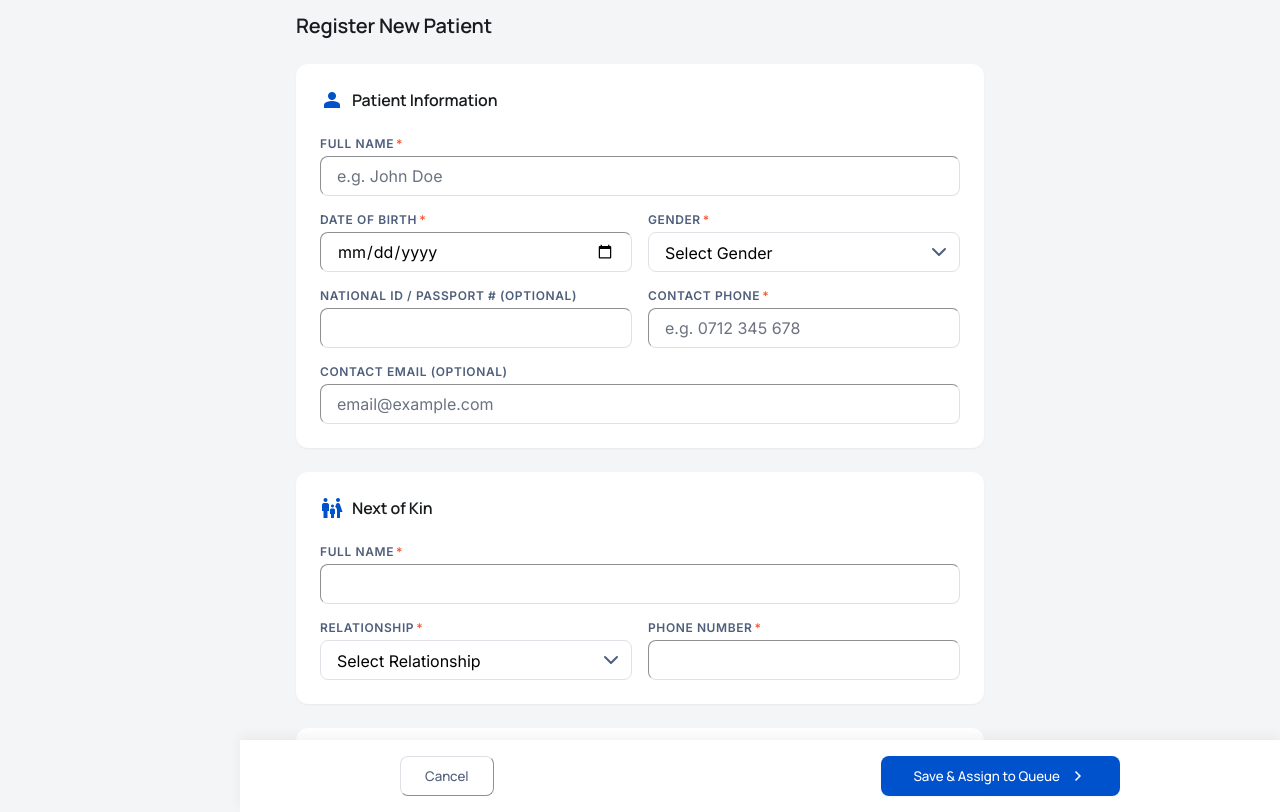
Scenario: PatientRegistrationPage › checks for duplicate National ID, populates details, and disables inputs if patient is active in queue
Type "98765" into the field below "National ID / Passport # (Optional)" at (476, 328), box [320,308,632,348]
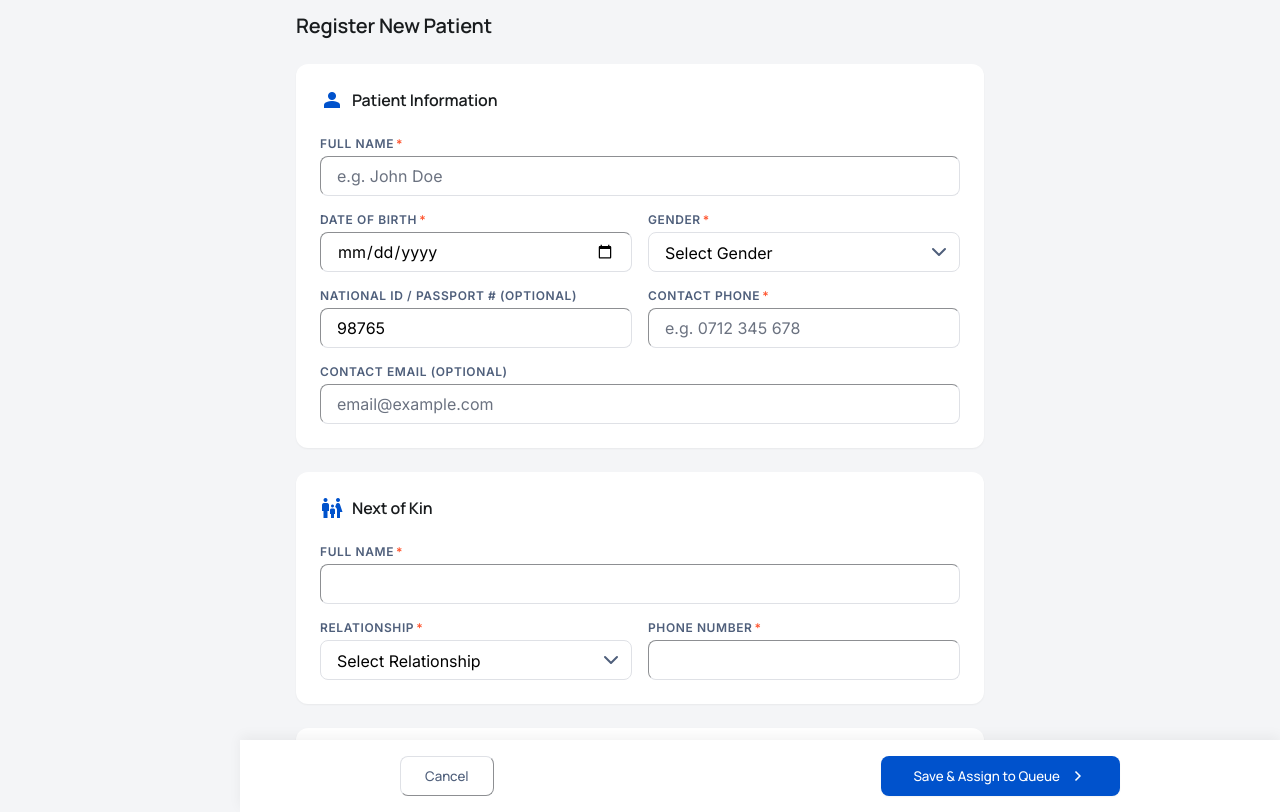
Blur to trigger handleNationalIdCheck
Leave the field below "National ID / Passport # (Optional)", box [320,308,632,348]
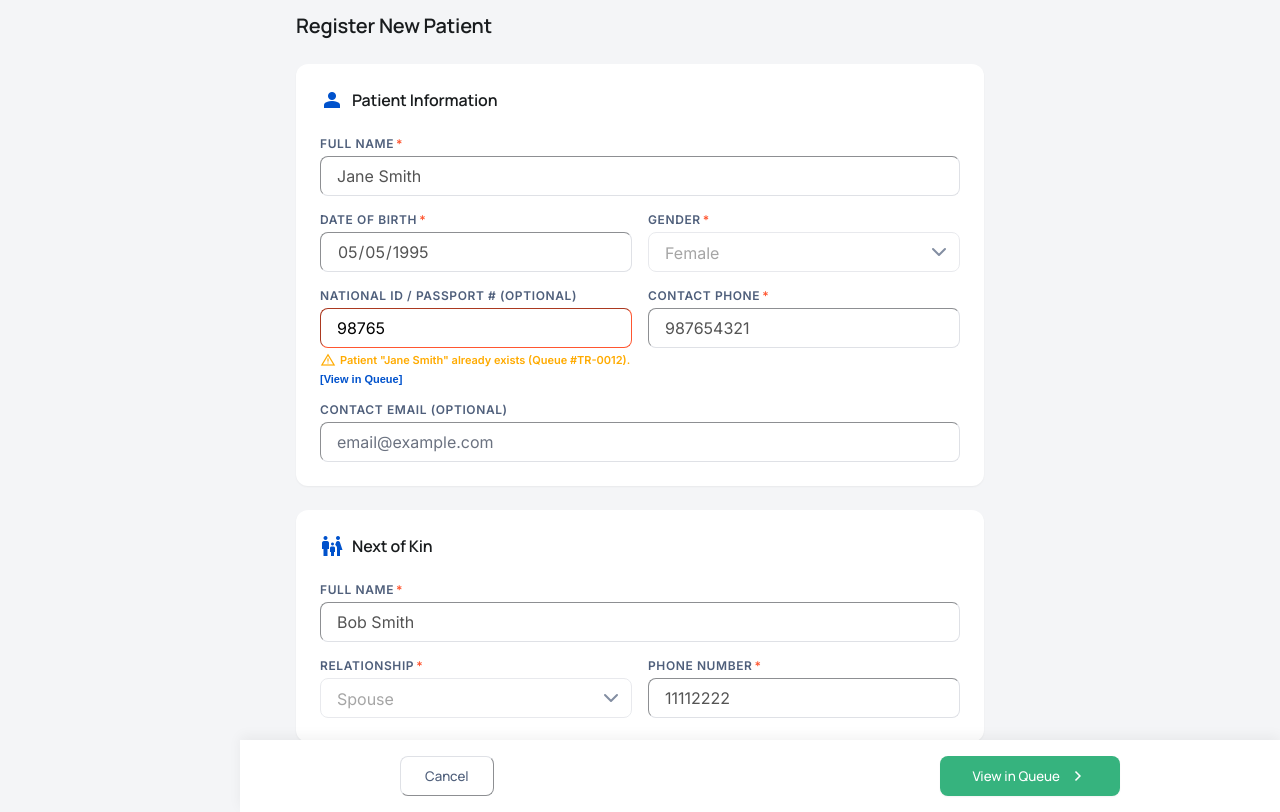
Check: the text "Patient \"Jane Smith\" already exists (Queue #TR-0012)." is shown, box [340,353,630,367]
Check: the 4th field showing "Bob Smith" is shown, box [320,602,960,642]
Check: the 1st field with placeholder "e.g. John Doe" is disabled, box [320,156,960,196]
